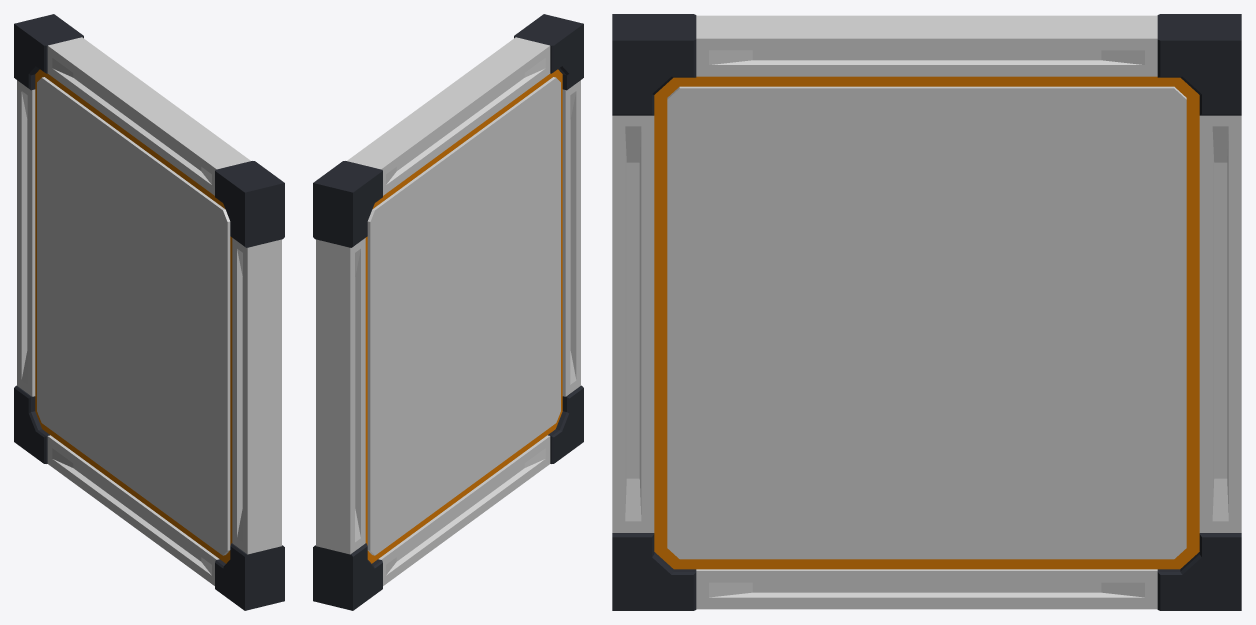
File: SM_Wall_V0.glb
The picture shows the model from 3 angles, left to right: view 1: azimuth 30°, elevation 25°; view 2: azimuth 150°, elevation 25°; view 3: azimuth 270°, elevation 25°; orthographic projection. The views are drawn at different scales.
Visible parts, largest first — view 1: SM_Wall_V0; view 2: SM_Wall_V0; view 3: SM_Wall_V0.
Boxes of the visible parts, bbox=[...] form: SM_Wall_V0: bbox=[14, 14, 284, 610]; SM_Wall_V0: bbox=[313, 14, 583, 610]; SM_Wall_V0: bbox=[612, 14, 1241, 610].
Size of the model in its own units: 0.4 by 4 by 4.
